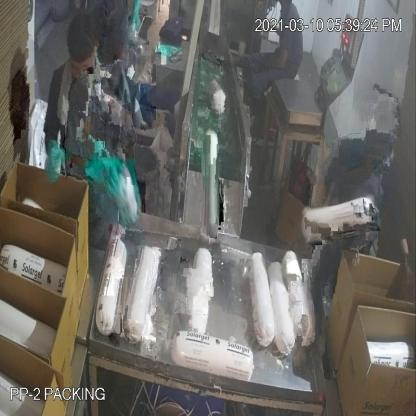no_glove: (258, 43, 294, 76)
